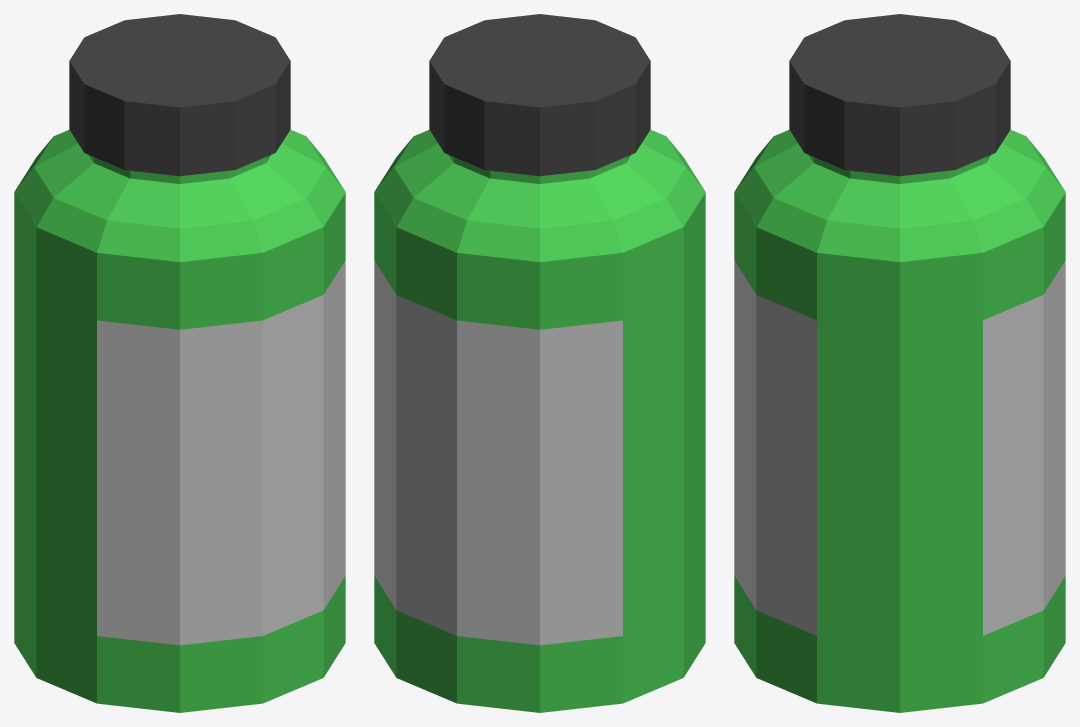
File: Pill Bottle.fbx
3 renders of one model, left to right at view 1: azimuth 30°, elevation 25°; view 2: azimuth 150°, elevation 25°; view 3: azimuth 270°, elevation 25°, orthographic.
Parts seen in each view (by area): view 1: Pill Bottle, Lid; view 2: Pill Bottle, Lid; view 3: Pill Bottle, Lid.
Boxes of the visible parts, x1,y1,x2,y2 form: Pill Bottle: (14,129,345,712); Lid: (69,14,290,176); Pill Bottle: (374,129,705,712); Lid: (429,14,650,176); Pill Bottle: (734,129,1065,712); Lid: (789,14,1010,176).
Size of the model in its own units: 0.48 by 0.93 by 0.48.
